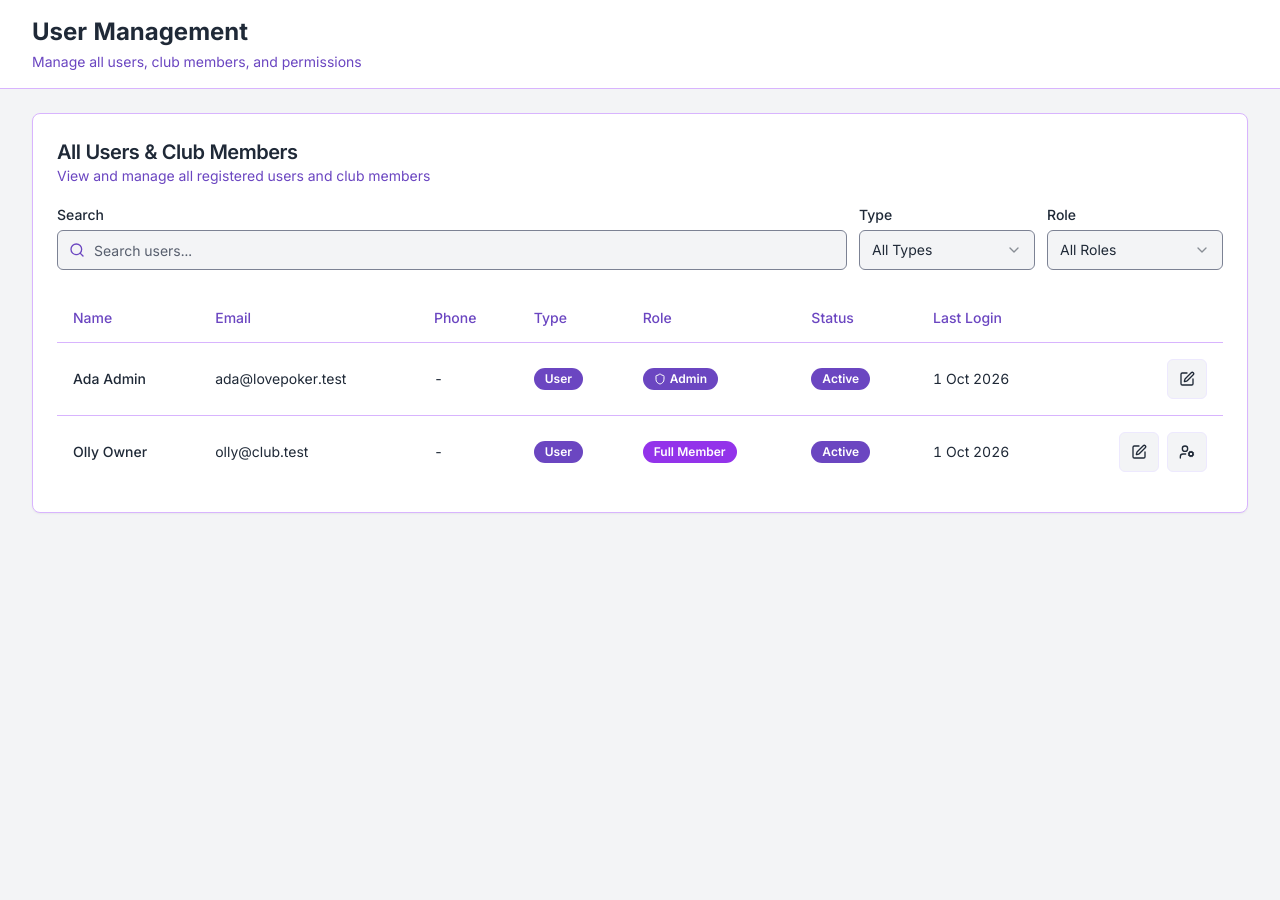
it: User management: editing › puts a taken email under the email field, and keeps the dialog open for a refusal like the last admin
Click the button named "Edit Olly Owner": (1139, 452) [1119, 432, 1159, 472]
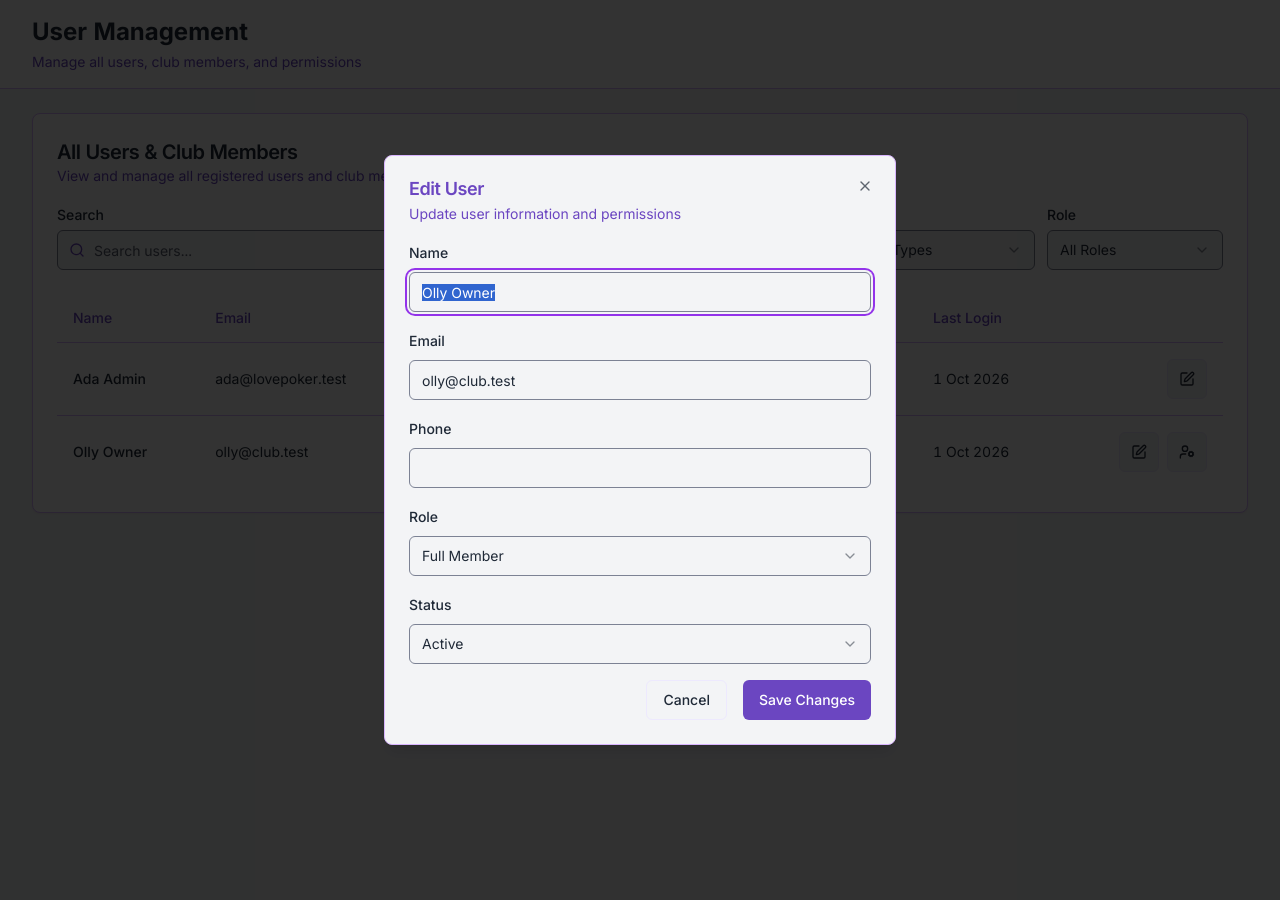
Click the button "Save Changes": (807, 700) [743, 680, 871, 720]
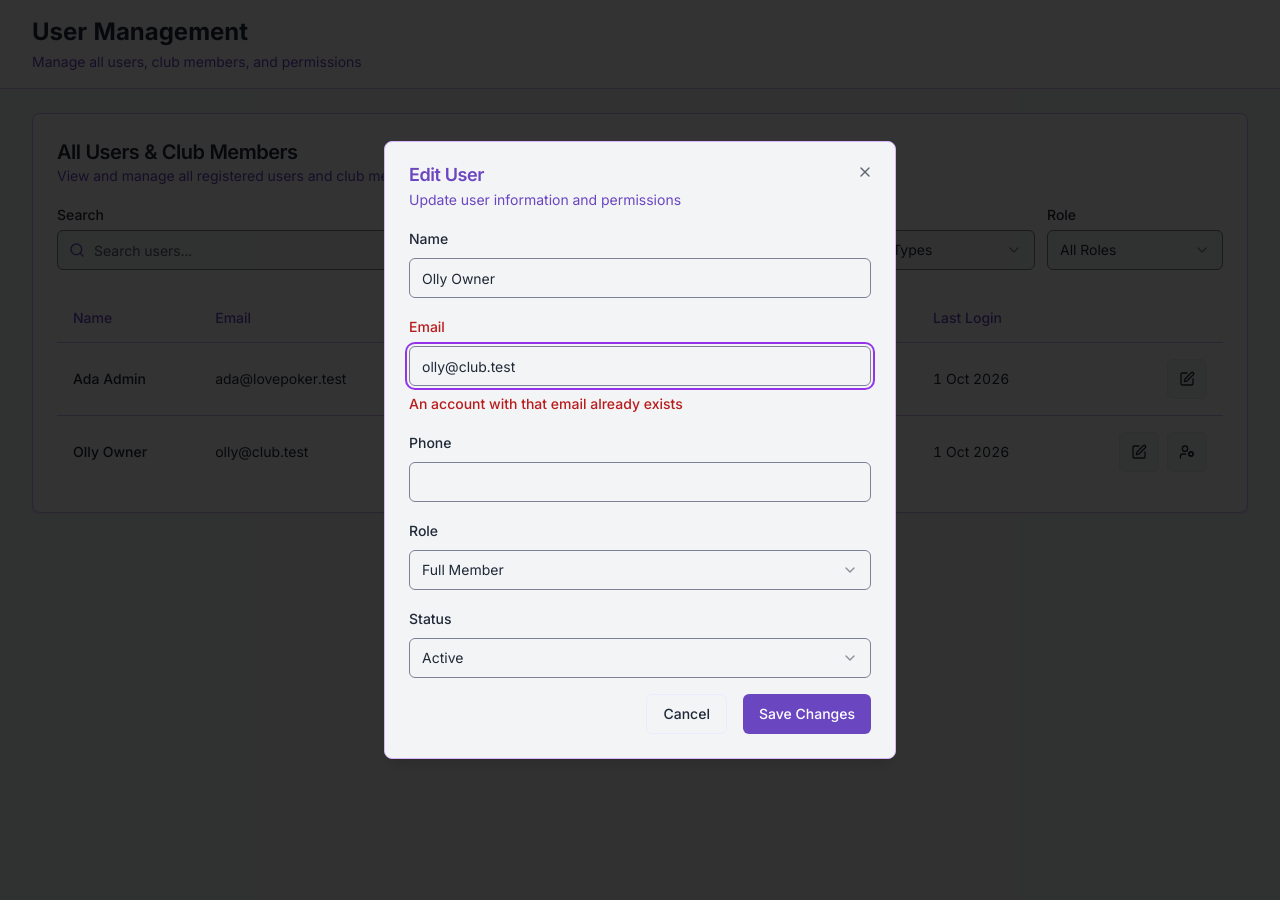
Check: the text "An account with that email already exists" is shown, box [409, 395, 683, 412]
Click the button "Save Changes": (807, 714) [743, 694, 871, 734]
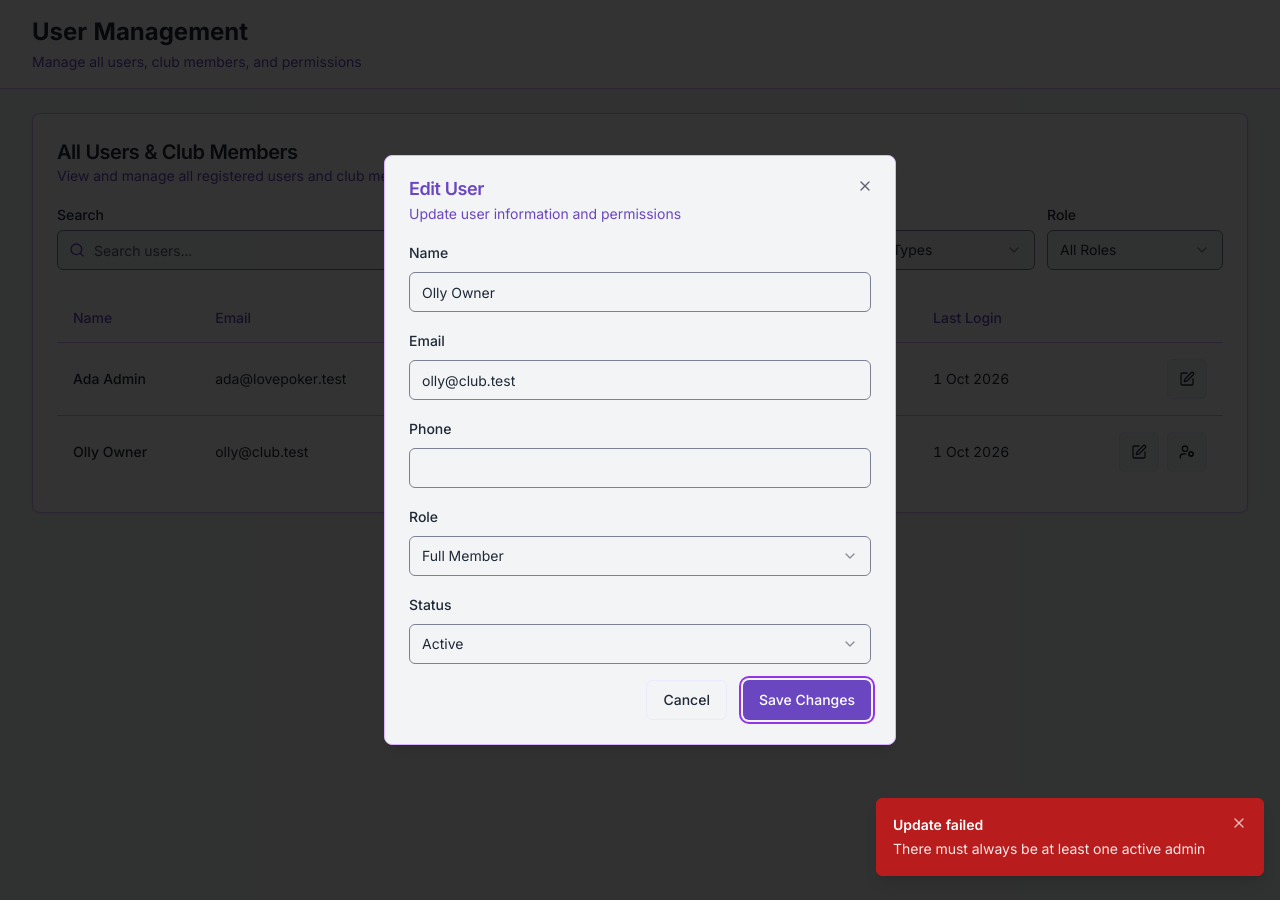
Check: the dialog "Edit User" is shown, box [384, 155, 896, 745]
Check: the text "There must always be at least one active admin" is shown, box [893, 839, 1215, 859]
